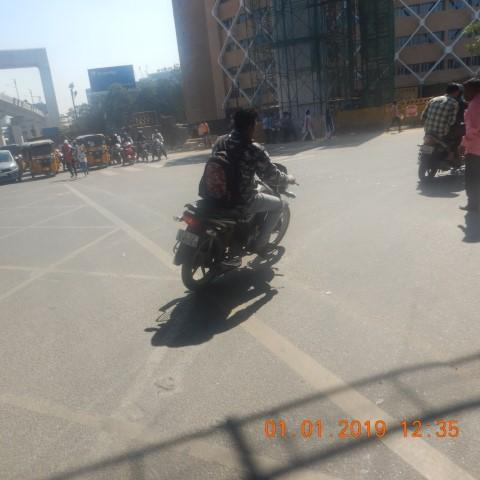plate: (175, 229, 199, 249)
